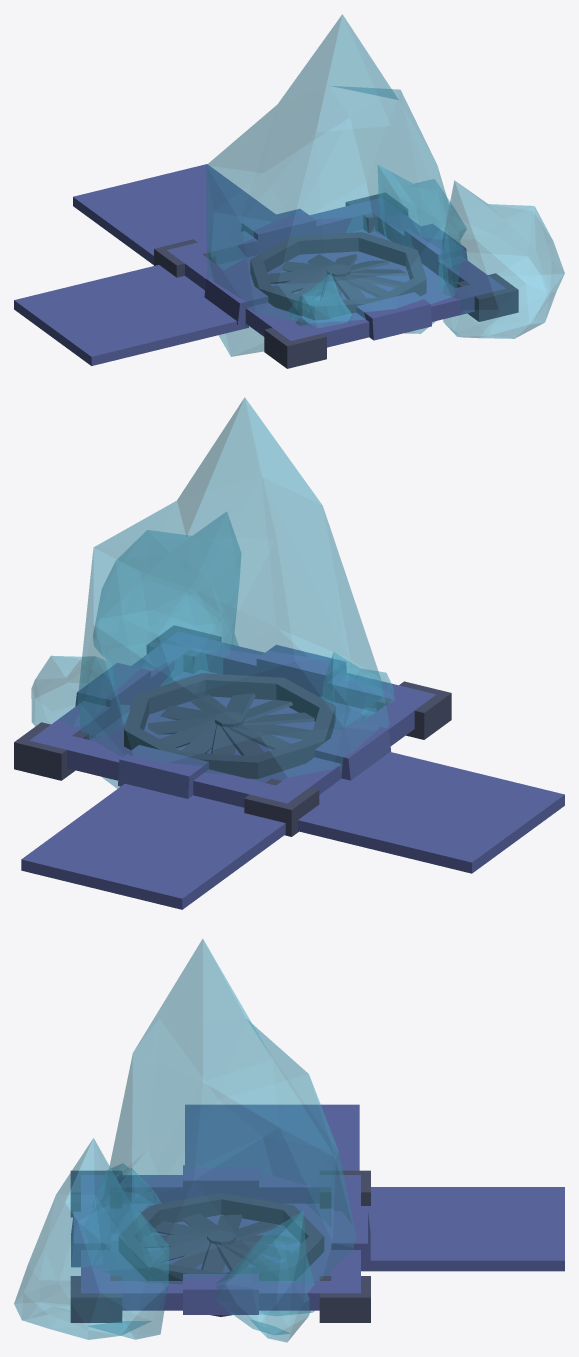
File: cristale de glace 2.fbx
3 views of the same model, one above another, from view 1: azimuth 30°, elevation 25°; view 2: azimuth 150°, elevation 25°; view 3: azimuth 270°, elevation 25° (orthographic). The views are drawn at different scales.
Parts seen in each view (by area): view 1: Icosphere, Cube.003, Icosphere.002, Cube.002, Cube.005, Cylinder.001, Cube.004, Icosphere.001, Icosphere.003; view 2: Icosphere, Cube.003, Cube.005, Cube.002, Icosphere.002, Cylinder.001, Cube.004, Icosphere.001, Icosphere.003; view 3: Icosphere, Cube.003, Icosphere.002, Cube.005, Cylinder.001, Cube.002, Icosphere.001, Cube.004, Icosphere.003.
Part boxes in pixels (<box>): Icosphere: <box>206,14,461,356</box>; Cube.003: <box>167,198,505,347</box>; Icosphere.002: <box>439,180,564,338</box>; Cube.002: <box>14,265,248,365</box>; Cube.005: <box>73,164,275,264</box>; Cylinder.001: <box>250,232,426,320</box>; Cube.004: <box>154,193,518,368</box>; Icosphere.001: <box>378,165,466,248</box>; Icosphere.003: <box>288,273,352,327</box>; Icosphere: <box>77,397,389,788</box>; Cube.003: <box>29,632,436,807</box>; Cube.005: <box>21,783,285,909</box>; Cube.002: <box>298,752,564,873</box>; Icosphere.002: <box>93,512,240,684</box>; Cylinder.001: <box>124,673,335,778</box>; Cube.004: <box>14,625,451,836</box>; Icosphere.001: <box>31,655,129,739</box>; Icosphere.003: <box>322,652,394,729</box>; Icosphere: <box>91,939,355,1315</box>; Cube.003: <box>71,1165,370,1314</box>; Icosphere.002: <box>14,1138,168,1339</box>; Cube.005: <box>361,1187,564,1271</box>; Cylinder.001: <box>119,1193,324,1316</box>; Cube.002: <box>185,1104,359,1174</box>; Icosphere.001: <box>215,1211,314,1342</box>; Cube.004: <box>70,1170,370,1322</box>; Icosphere.003: <box>96,1164,160,1212</box>.
Size of the model in its own units: 400 by 283 by 394.
